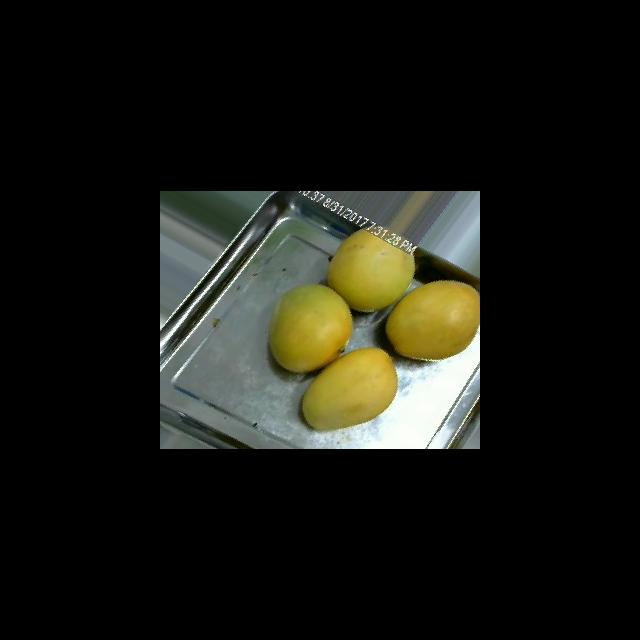Mango: (299, 346, 398, 432), (385, 279, 479, 361), (268, 283, 353, 373), (326, 228, 415, 312)
